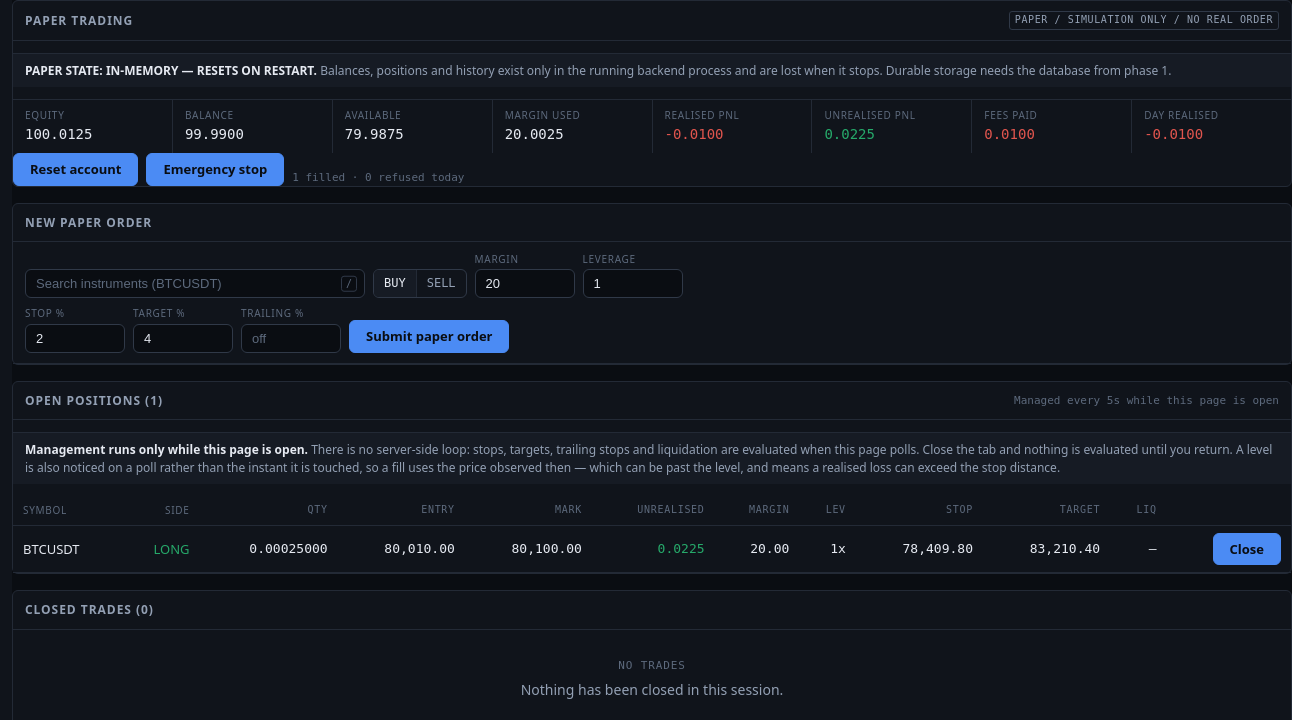
Scenario: PaperPage › closes a position on request
Expected: the text "Equity" is shown, [25,108,64,122]
Step 1. Click the button "Close" → (1247, 549), box [1213,533,1281,565]
(page scrolled)
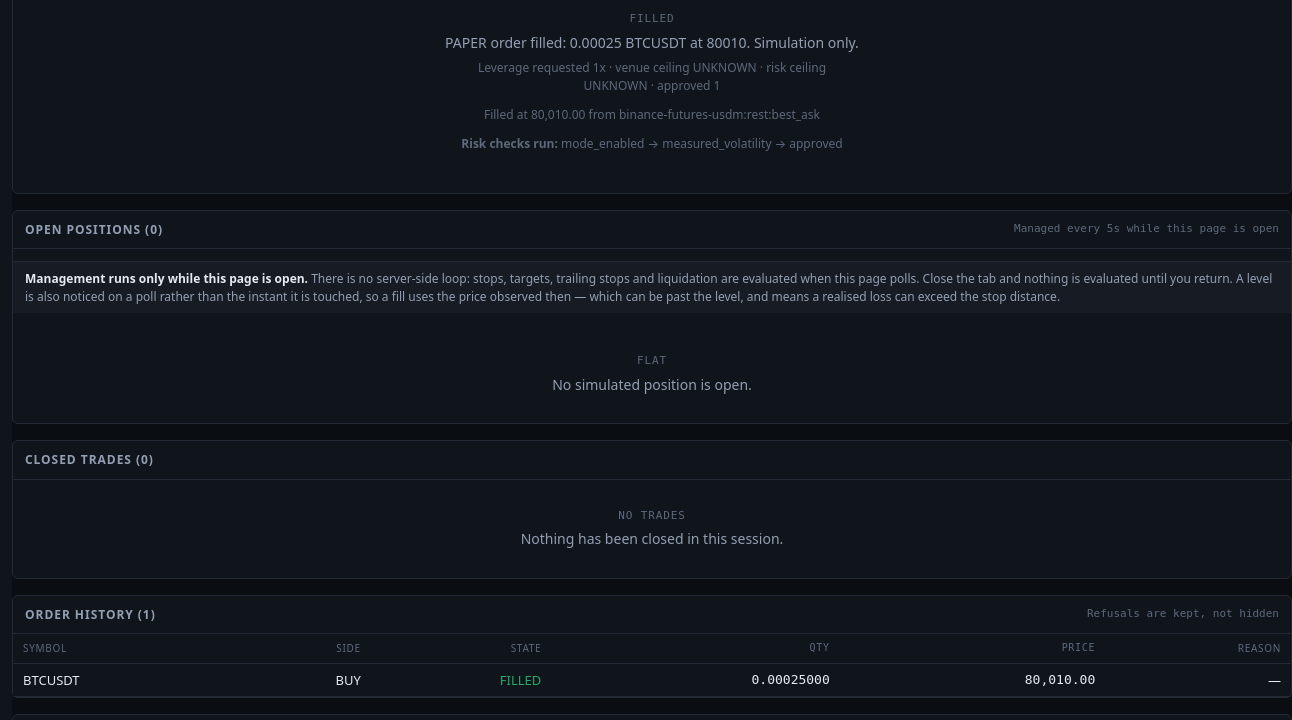
Now the text "FLAT" is shown, box [637,354,667,367]
